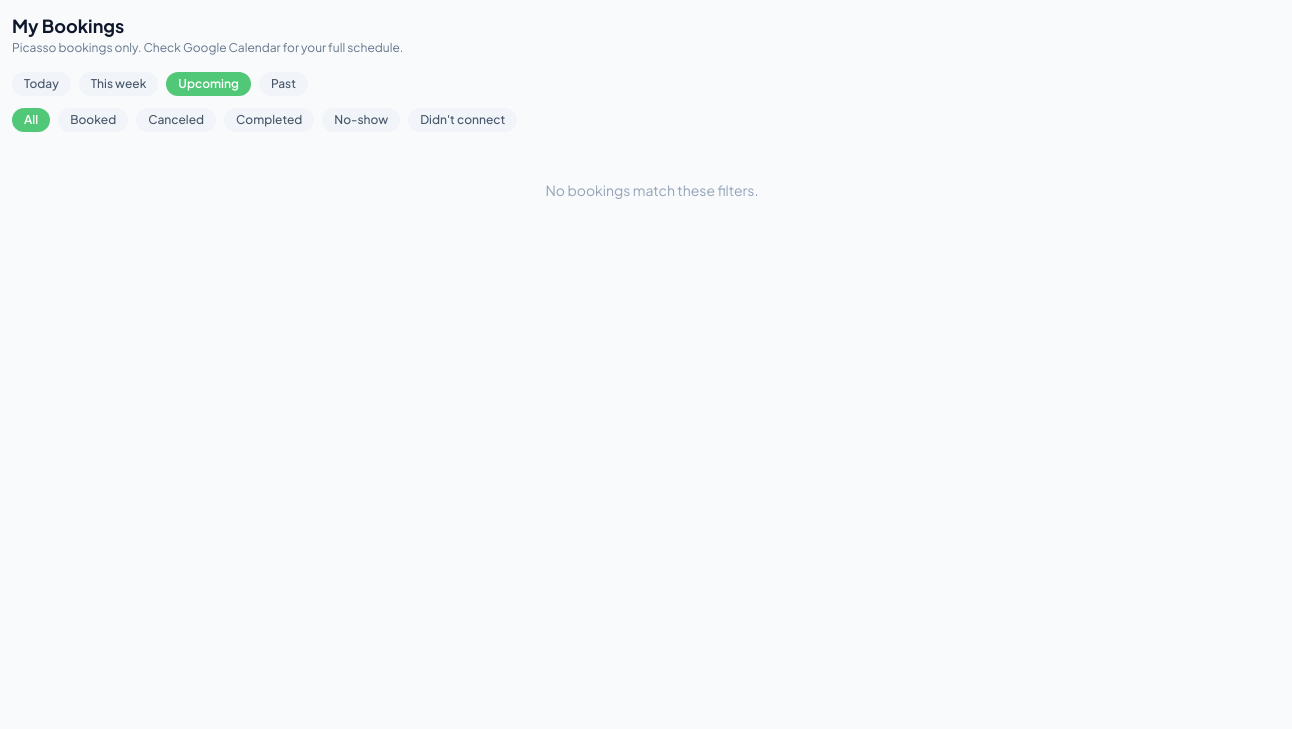
Test: MyBookings (Surface 2) › status filter narrows the list to the chosen status
The width and height of the screenshot is (1292, 729).
# Switch to Past so the June rows are in-range, then filter to Canceled.
Click the button "Past" at (283, 84), box [259,72,308,96]
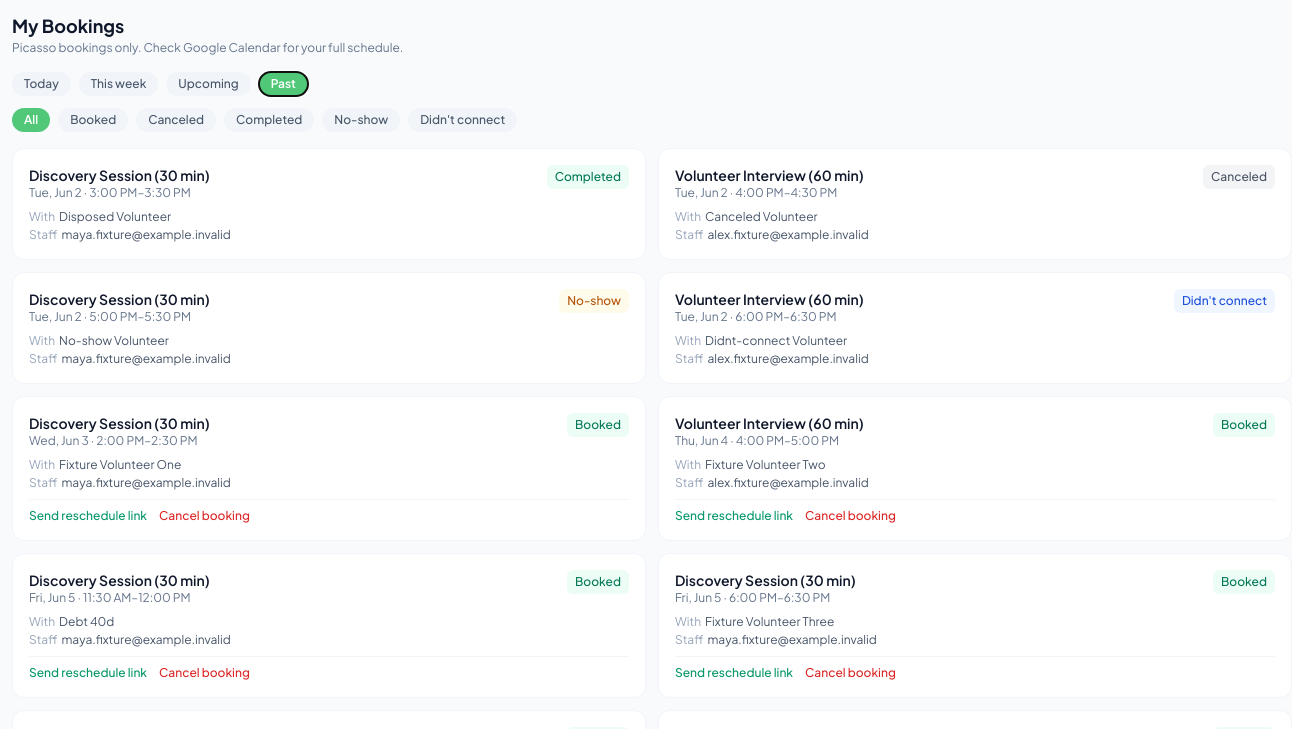
Click the button "Canceled" at (176, 120), box [136,108,216,132]
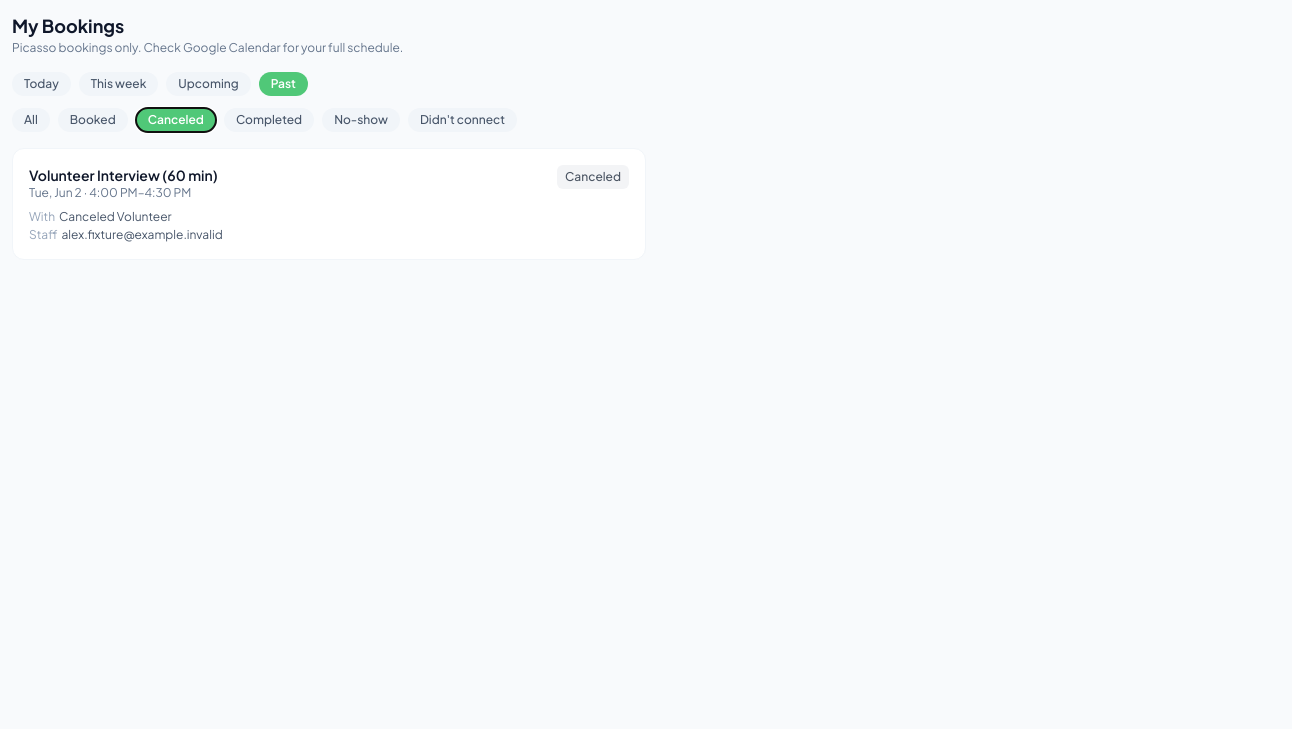
Now the text "Canceled" is shown, box [557,165,629,189]
Now the number of list items is 1, box [12,148,646,260]
